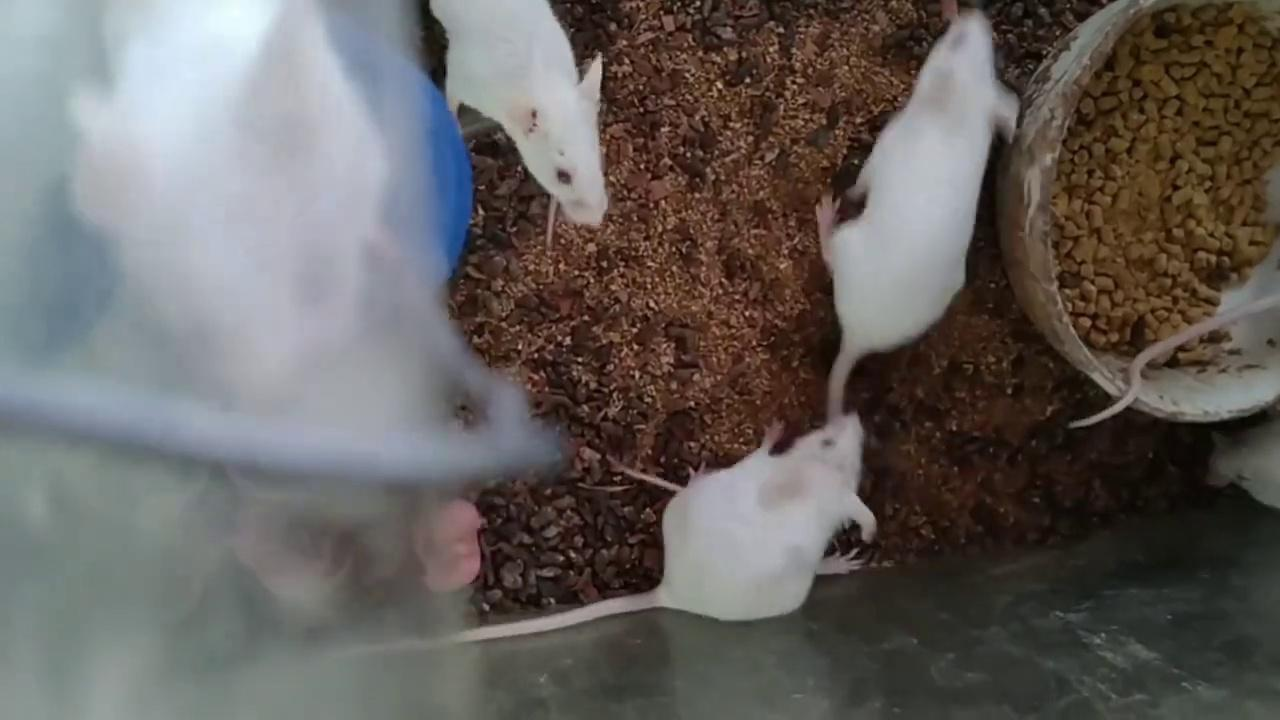rat: (464, 411, 877, 641), (814, 9, 1017, 419), (428, 0, 610, 226)
